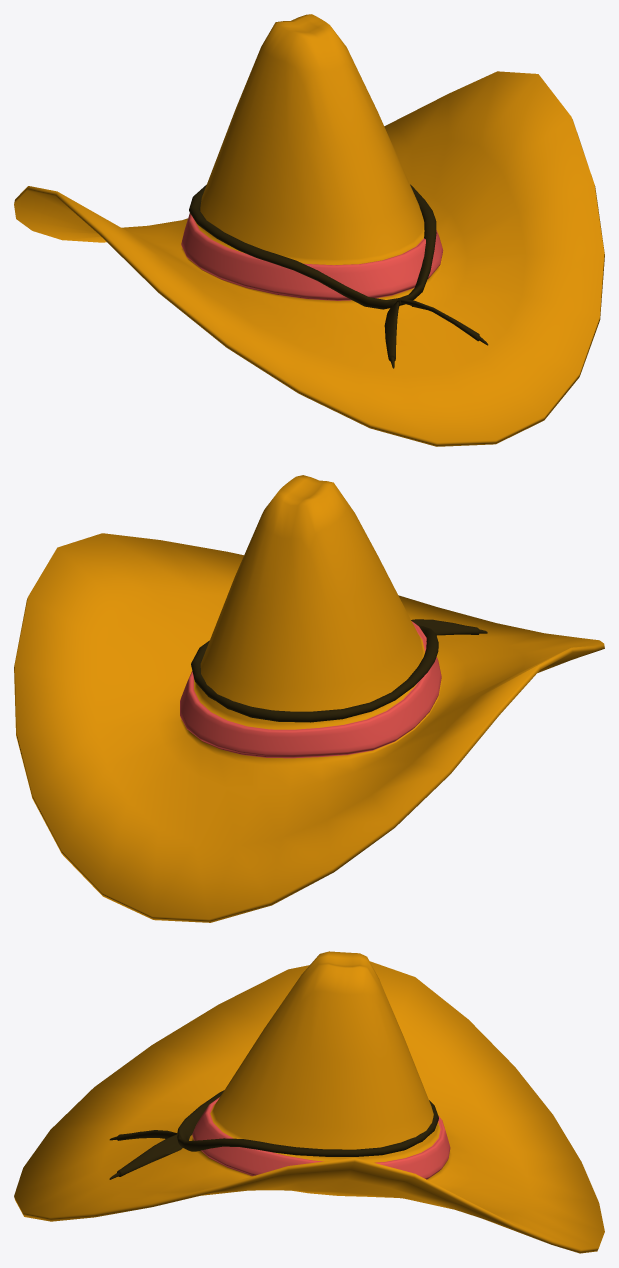
Rendered from Hat.fbx.
3 views of the same model, one above another, from view 1: azimuth 30°, elevation 25°; view 2: azimuth 150°, elevation 25°; view 3: azimuth 270°, elevation 25° (orthographic). The views are drawn at different scales.
Parts seen in each view (by area): view 1: Chibi.002; view 2: Chibi.002; view 3: Chibi.002.
Boxes of the visible parts, x1=… form: Chibi.002: x1=14, y1=14, x2=604, y2=446; Chibi.002: x1=14, y1=475, x2=604, y2=922; Chibi.002: x1=14, y1=951, x2=604, y2=1253.
Bounding box in the file's own units: 79.65 × 50.6 × 97.83.
